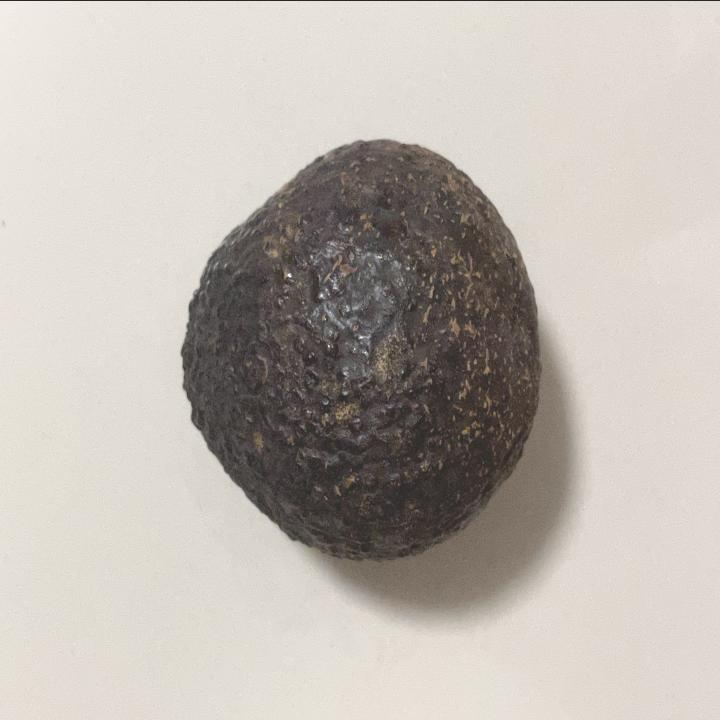Level3: (172, 126, 550, 574)
